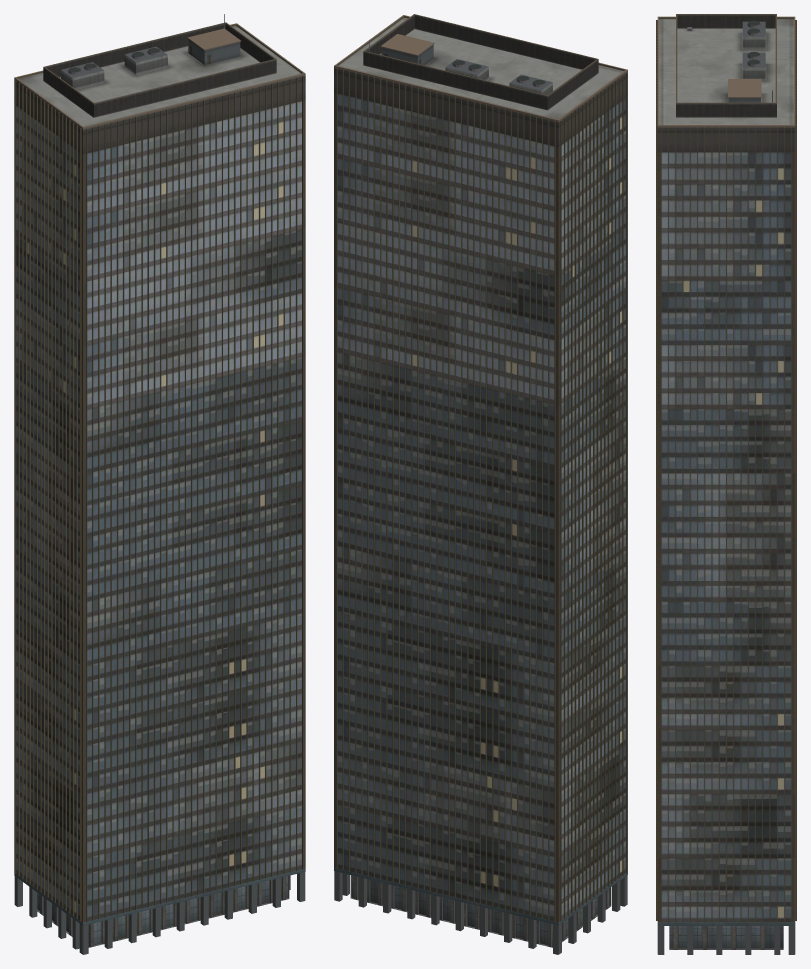
The model's file is nyc_glassslab_d.glb.
3 views of the same model, side by side, from view 1: azimuth 30°, elevation 25°; view 2: azimuth 150°, elevation 25°; view 3: azimuth 270°, elevation 25° (orthographic).
Visible parts, largest first — view 1: nyc_glassslab_d; view 2: nyc_glassslab_d; view 3: nyc_glassslab_d.
Part boxes in pixels (x1,y1,x2,y2): nyc_glassslab_d: (14,14,305,954); nyc_glassslab_d: (334,14,627,954); nyc_glassslab_d: (656,14,796,954).
Size of the model in its own units: 56.6 by 205 by 30.6.
Materials: 1 (1 with a texture image).
